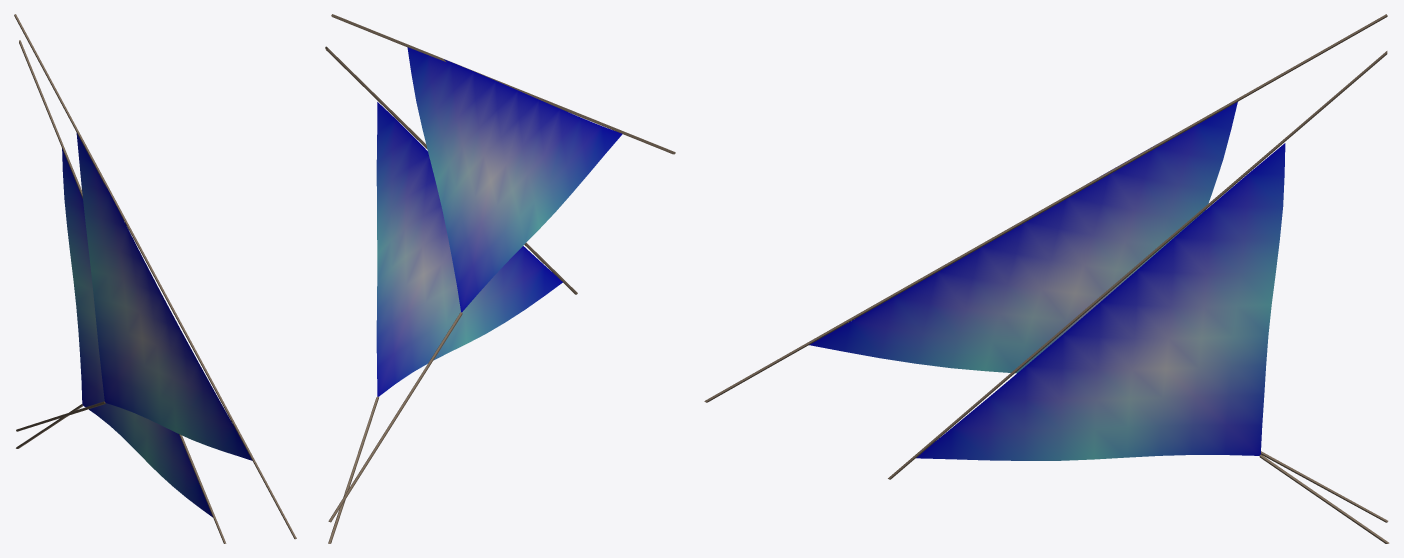
File: SM_Veh_Ship_M_01_Rigging_Front_01.fbx
3 renders of one model, left to right at view 1: azimuth 30°, elevation 25°; view 2: azimuth 150°, elevation 25°; view 3: azimuth 270°, elevation 25°, orthographic. The views are drawn at different scales.
Parts seen in each view (by area): view 1: SM_Veh_Ship_M_01_Rigging_Front_01; view 2: SM_Veh_Ship_M_01_Rigging_Front_01; view 3: SM_Veh_Ship_M_01_Rigging_Front_01.
Part boxes in pixels (x1,y1,x2,y2): SM_Veh_Ship_M_01_Rigging_Front_01: (14, 14, 296, 543); SM_Veh_Ship_M_01_Rigging_Front_01: (325, 14, 675, 543); SM_Veh_Ship_M_01_Rigging_Front_01: (704, 14, 1389, 543).
Bounding box in the file's own units: 106 × 1689 × 1987.
